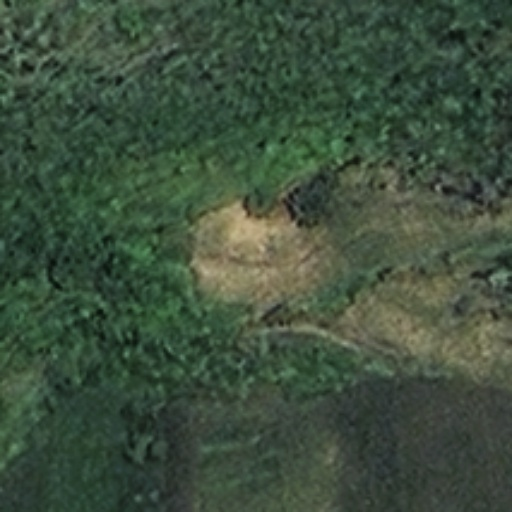landslide: (190, 199, 323, 304)
